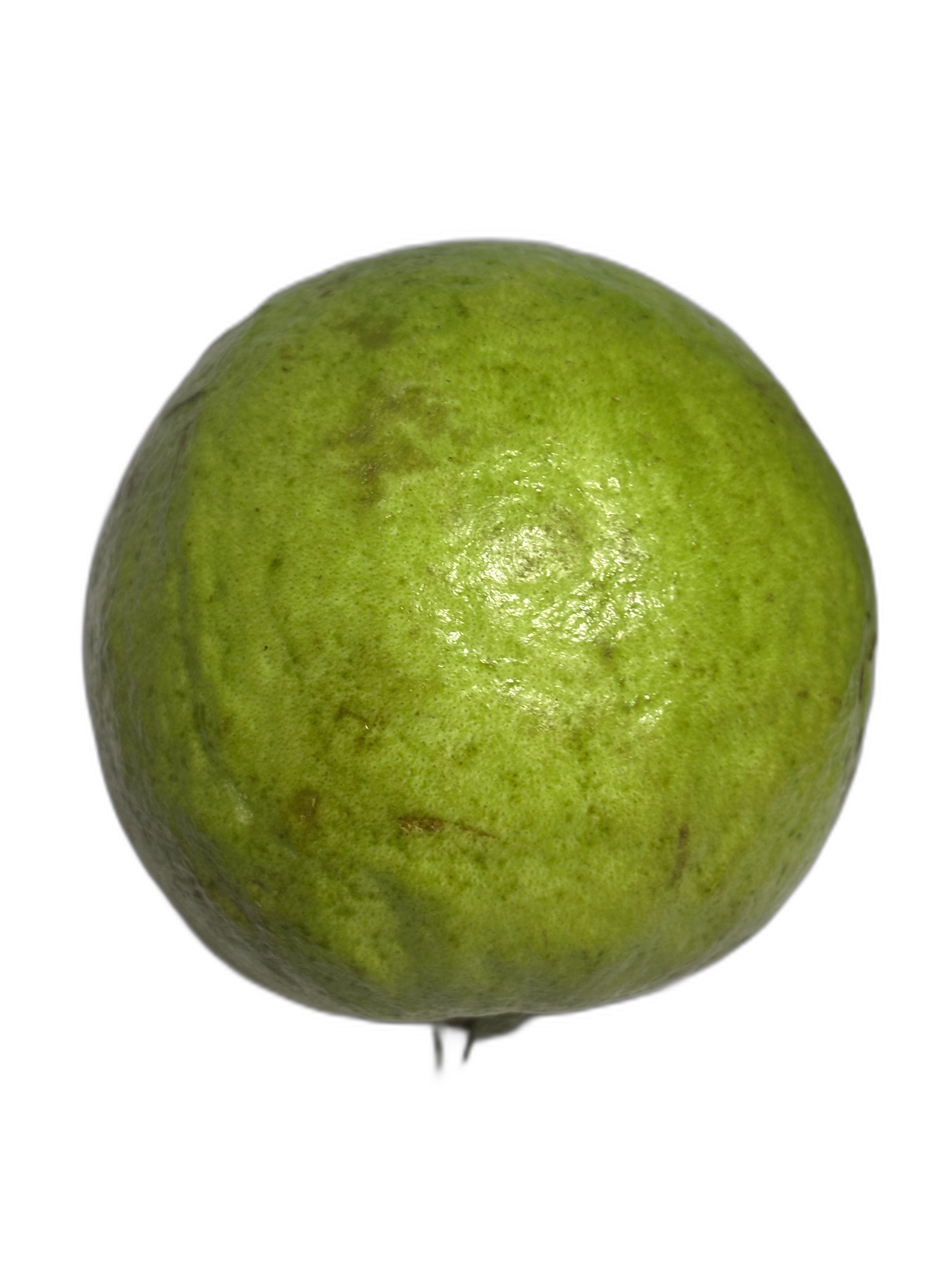guava: (83, 45, 706, 1048)
